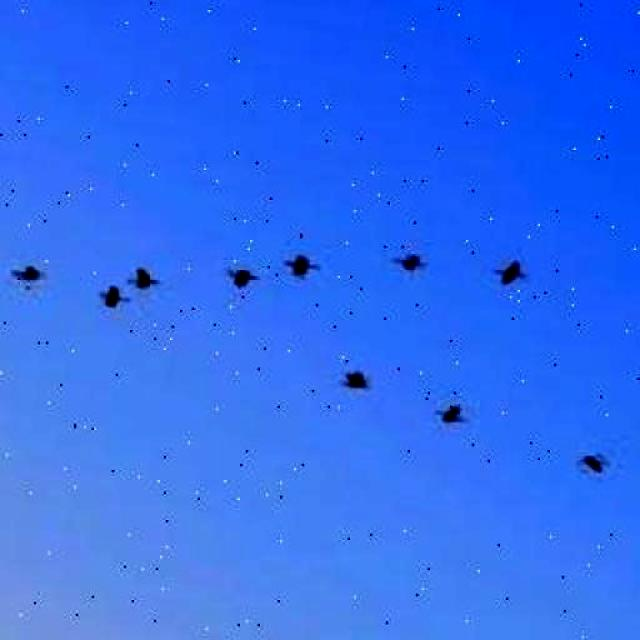airplane: (214, 261, 270, 295), (485, 258, 538, 291), (275, 251, 329, 281), (0, 262, 52, 291), (328, 366, 380, 394), (424, 398, 470, 428), (125, 268, 169, 298), (96, 285, 136, 315), (389, 252, 435, 276), (572, 454, 616, 474)
